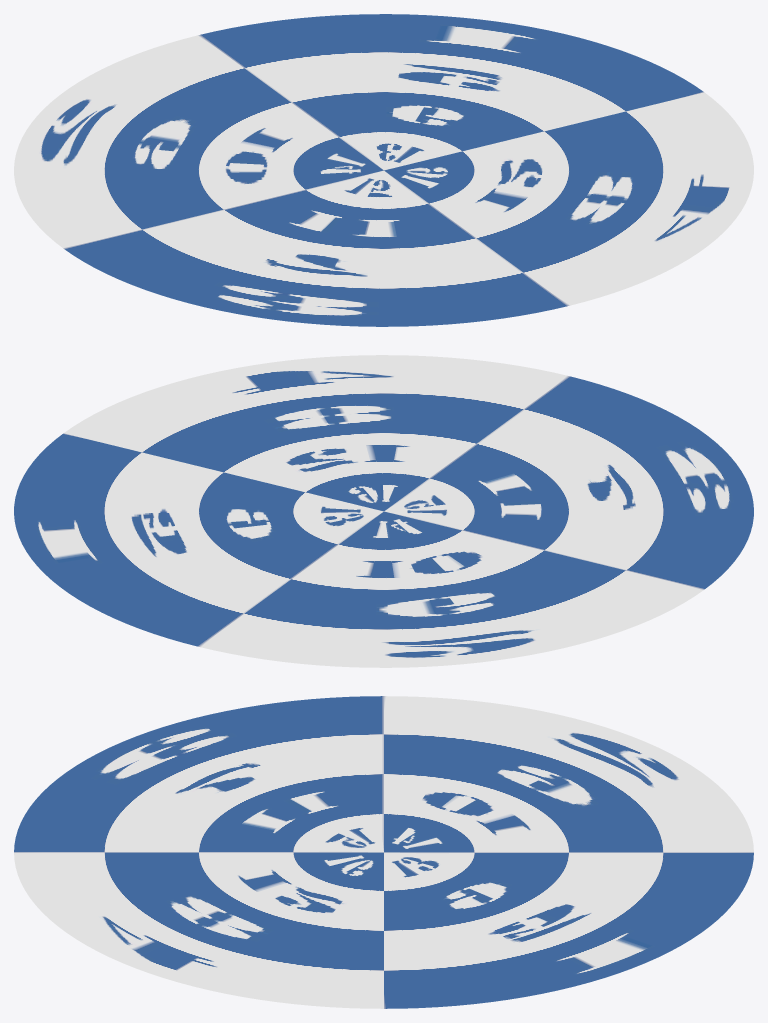
Rendered from Hi_Spl_Circle.fbx.
3 renders of one model, top to bottom at view 1: azimuth 30°, elevation 25°; view 2: azimuth 150°, elevation 25°; view 3: azimuth 270°, elevation 25°, orthographic.
Visible parts, largest first — view 1: SM_d_e_P0001_V00_C00_SplHkr_Circle_01; view 2: SM_d_e_P0001_V00_C00_SplHkr_Circle_01; view 3: SM_d_e_P0001_V00_C00_SplHkr_Circle_01.
Boxes of the visible parts, bbox=[...] form: SM_d_e_P0001_V00_C00_SplHkr_Circle_01: bbox=[14, 14, 753, 326]; SM_d_e_P0001_V00_C00_SplHkr_Circle_01: bbox=[14, 355, 753, 667]; SM_d_e_P0001_V00_C00_SplHkr_Circle_01: bbox=[14, 696, 753, 1008].
Size of the model in its own units: 200 by 2.45e-14 by 200.
